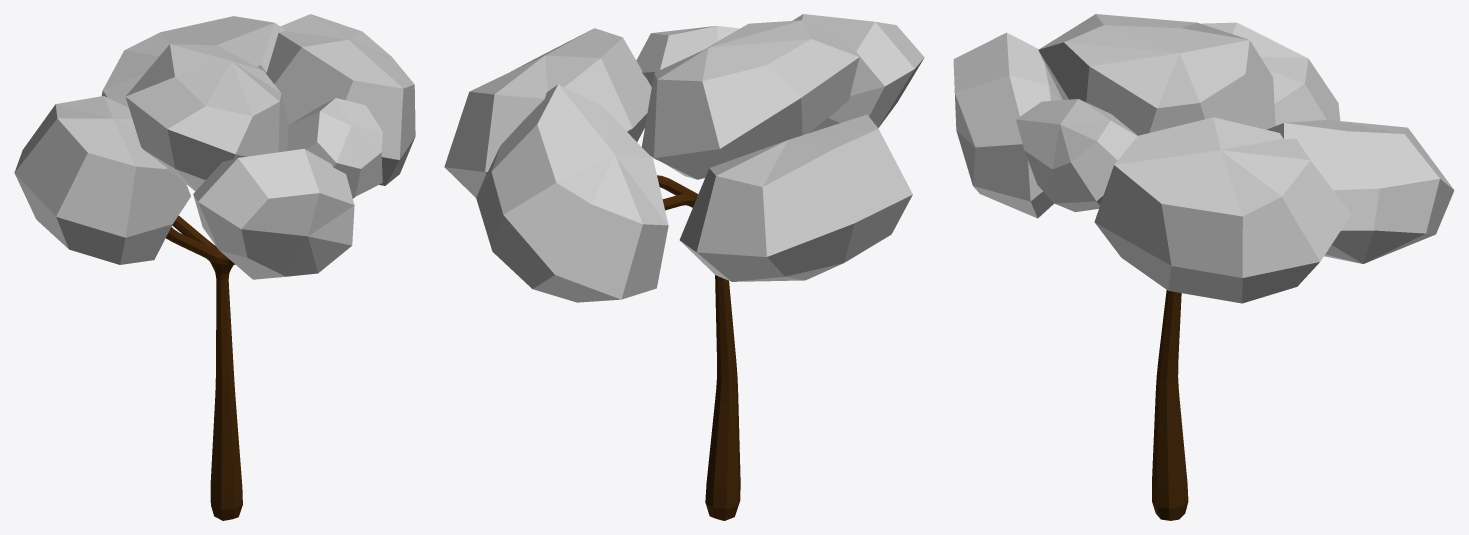
Rendered from LPTreeTest.fbx.
3 renders of one model, left to right at view 1: azimuth 30°, elevation 25°; view 2: azimuth 150°, elevation 25°; view 3: azimuth 270°, elevation 25°, orthographic. The views are drawn at different scales.
Visible parts, largest first — view 1: Sphere, Tree; view 2: Sphere, Tree; view 3: Sphere, Tree.
Boxes of the visible parts, box(x1,y1,x2,y2) form: Sphere: box(14, 14, 415, 279); Tree: box(166, 215, 242, 520); Sphere: box(444, 14, 924, 302); Tree: box(657, 175, 740, 520); Sphere: box(953, 14, 1454, 303); Tree: box(1152, 290, 1188, 520).
Size of the model in its own units: 419 by 463 by 445.
